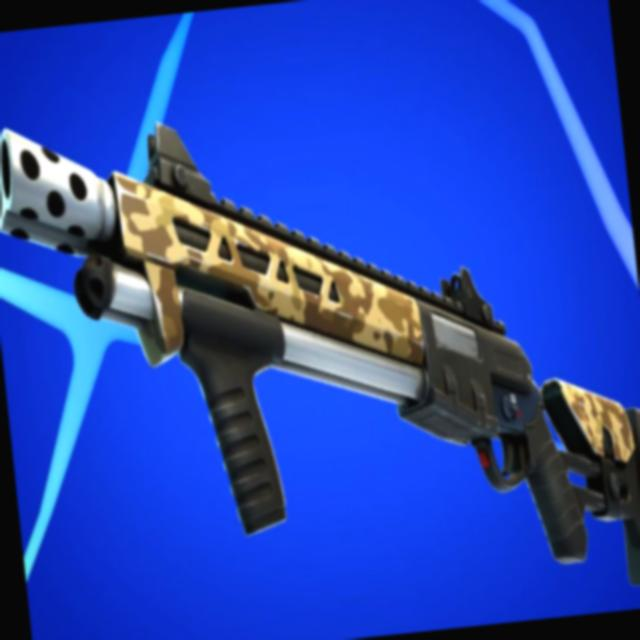shotgun: (0, 44, 640, 640)
